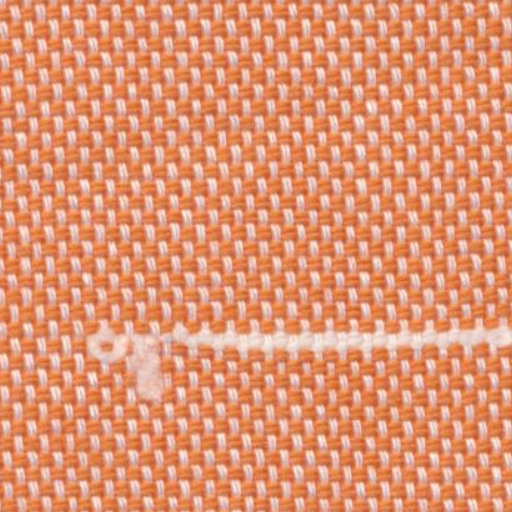DuanSha: (74, 310, 186, 410)
